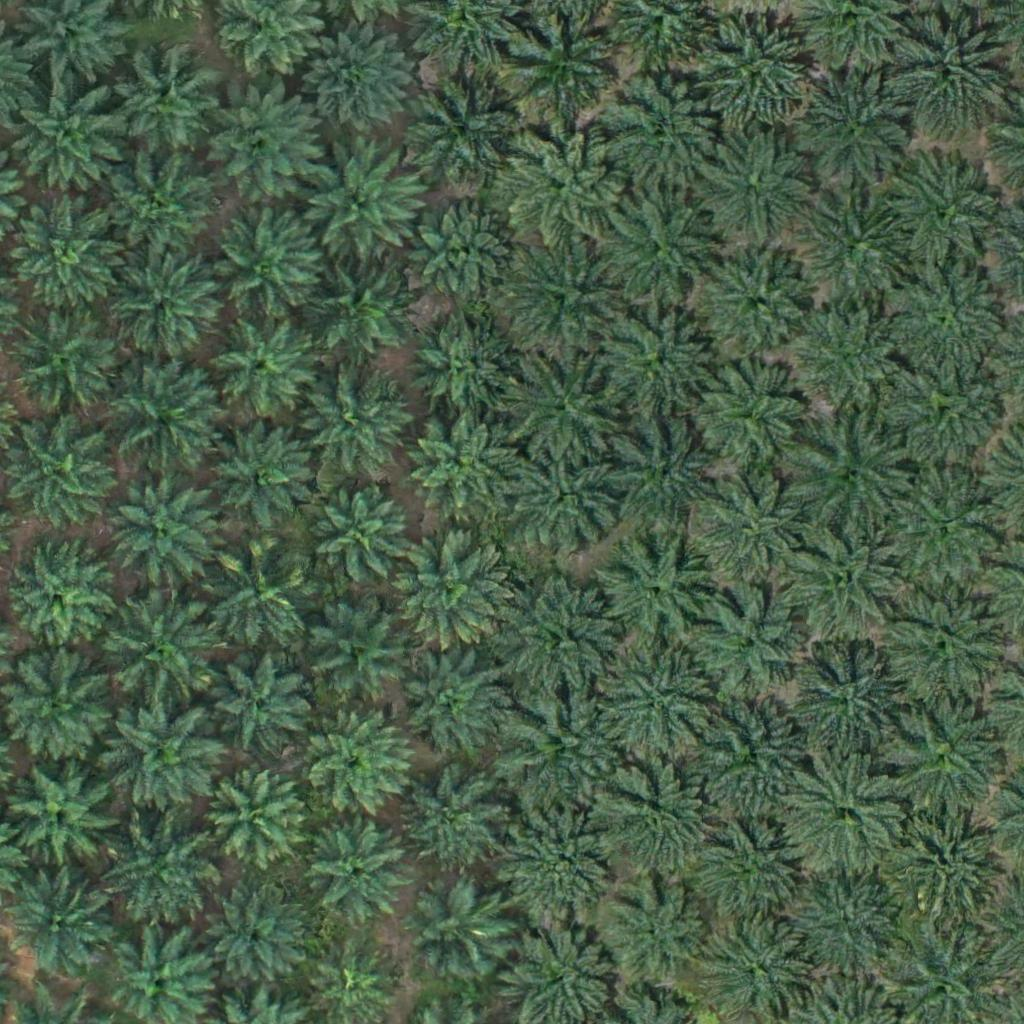Kelapa_Sawit: (408, 67, 533, 193), (507, 137, 632, 263), (101, 696, 226, 822), (390, 520, 515, 646), (386, 637, 511, 763), (503, 578, 628, 704), (503, 689, 628, 815), (600, 65, 725, 191), (695, 3, 820, 129), (697, 125, 822, 251), (794, 68, 919, 194), (886, 8, 1011, 134), (793, 186, 918, 312), (603, 408, 728, 534), (790, 414, 915, 540), (779, 520, 904, 646), (787, 649, 912, 775), (880, 585, 1005, 711), (880, 467, 1005, 593), (887, 351, 1012, 477), (887, 267, 1012, 393), (500, 798, 625, 924), (591, 763, 716, 889), (783, 753, 908, 879), (891, 794, 1016, 920), (297, 145, 422, 270), (511, 339, 636, 464), (598, 641, 723, 766), (205, 86, 318, 200), (111, 40, 224, 154), (107, 153, 220, 267), (8, 416, 121, 530), (599, 197, 712, 311), (783, 306, 896, 420), (784, 877, 897, 991), (507, 12, 620, 125), (2, 651, 115, 764), (210, 207, 323, 320), (299, 367, 412, 480), (102, 817, 215, 930), (604, 300, 717, 413), (595, 538, 708, 651), (695, 584, 808, 697), (696, 472, 809, 585), (8, 78, 120, 192), (10, 307, 122, 421), (106, 470, 218, 584), (104, 593, 216, 707), (201, 544, 313, 658), (301, 711, 413, 825), (701, 246, 813, 360), (696, 362, 808, 476), (300, 18, 412, 131), (9, 192, 121, 305), (111, 247, 223, 360), (110, 367, 222, 480), (402, 410, 514, 523), (510, 446, 622, 559), (889, 704, 1001, 817), (211, 313, 311, 414), (209, 420, 309, 521), (310, 265, 410, 366), (311, 488, 411, 589), (416, 195, 516, 296), (411, 320, 511, 421), (517, 246, 617, 347), (208, 892, 308, 993), (13, 768, 113, 869), (6, 865, 106, 966), (897, 162, 997, 263), (603, 881, 703, 982), (215, 649, 315, 749), (305, 603, 405, 703), (402, 775, 502, 875), (410, 883, 510, 983), (309, 825, 409, 925), (206, 770, 306, 870), (692, 816, 792, 916), (702, 703, 801, 803)
